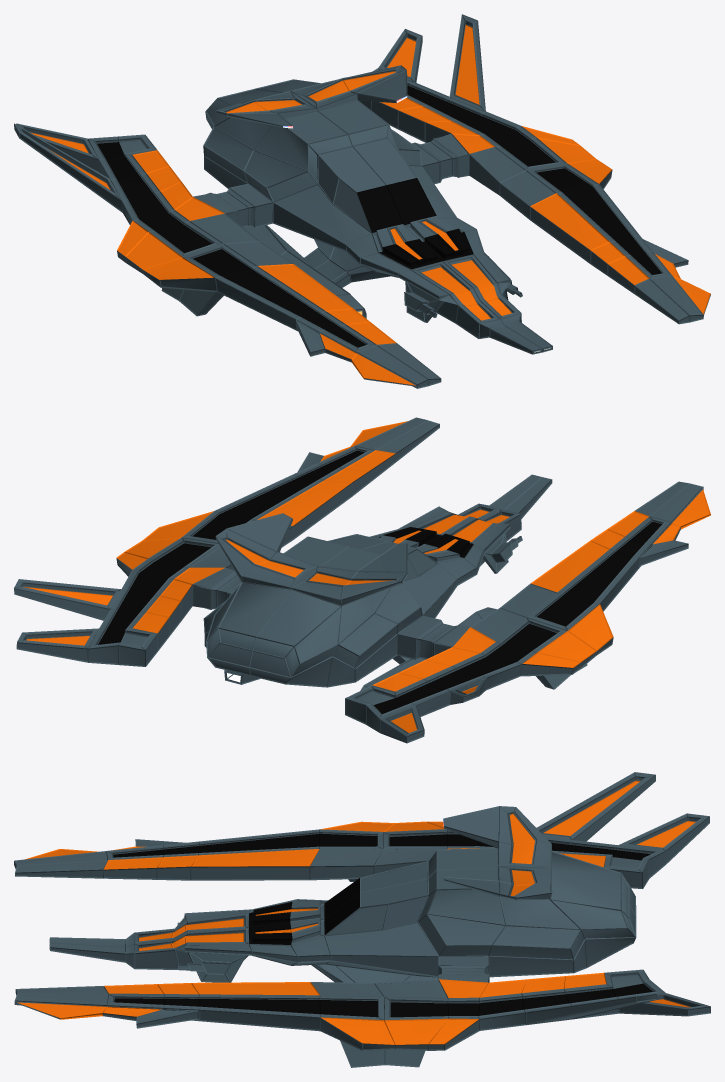
Rendered from spaceship.glb.
The picture shows the model from 3 angles, top to bottom: view 1: azimuth 30°, elevation 25°; view 2: azimuth 150°, elevation 25°; view 3: azimuth 270°, elevation 25°; orthographic projection.
Visible parts, largest first — view 1: space_ship_1, wireframe_2; view 2: space_ship_1, wireframe_2; view 3: space_ship_1, wireframe_2.
Part boxes in pixels (<box>): space_ship_1: <box>14,15,709,387</box>; wireframe_2: <box>14,14,710,388</box>; space_ship_1: <box>15,418,709,741</box>; wireframe_2: <box>14,417,710,743</box>; space_ship_1: <box>14,773,709,1066</box>; wireframe_2: <box>14,772,710,1067</box>.
Size of the model in its own units: 4.36 by 1.32 by 5.73.
7 materials, 2 textured.
